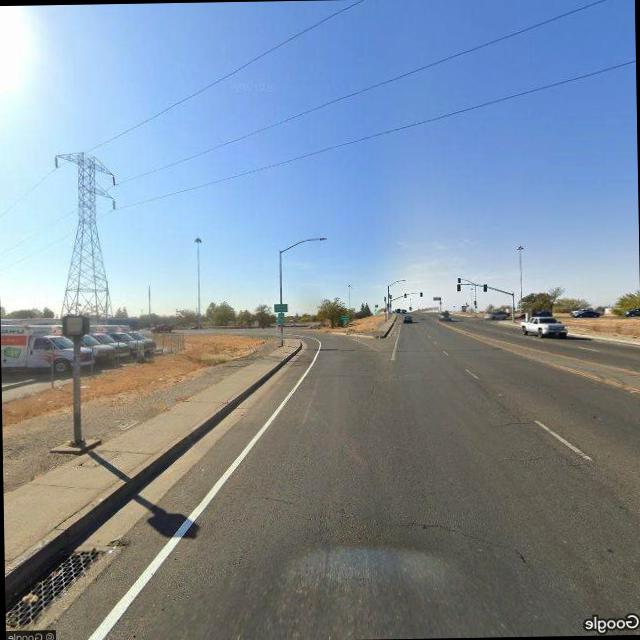crack: (394, 512, 536, 564), (491, 414, 543, 428)
